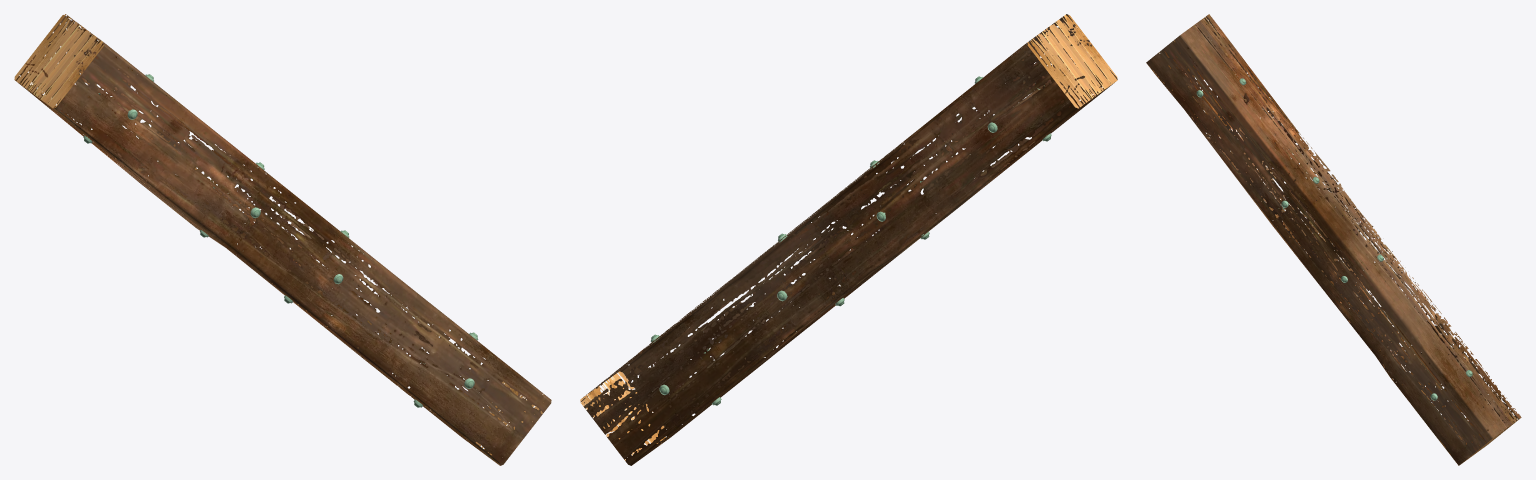
The picture shows the model from 3 angles, left to right: view 1: azimuth 30°, elevation 25°; view 2: azimuth 150°, elevation 25°; view 3: azimuth 330°, elevation 25°; orthographic projection. The views are drawn at different scales.
Visible parts, largest first — view 1: SM_BB_T4_Beam_Thick_Large_Diagonal_LOD0; view 2: SM_BB_T4_Beam_Thick_Large_Diagonal_LOD0; view 3: SM_BB_T4_Beam_Thick_Large_Diagonal_LOD0.
Part boxes in pixels (x1=…): SM_BB_T4_Beam_Thick_Large_Diagonal_LOD0: x1=14, y1=14, x2=551, y2=465; SM_BB_T4_Beam_Thick_Large_Diagonal_LOD0: x1=580, y1=14, x2=1117, y2=465; SM_BB_T4_Beam_Thick_Large_Diagonal_LOD0: x1=1146, y1=14, x2=1521, y2=465.
Size of the model in its own units: 3.35 by 3.34 by 0.5484.
2 materials, 2 textured.
